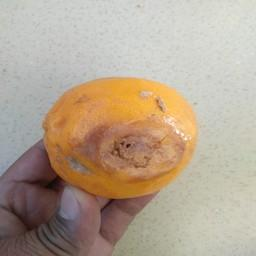Bad_orange: (39, 72, 200, 199)
